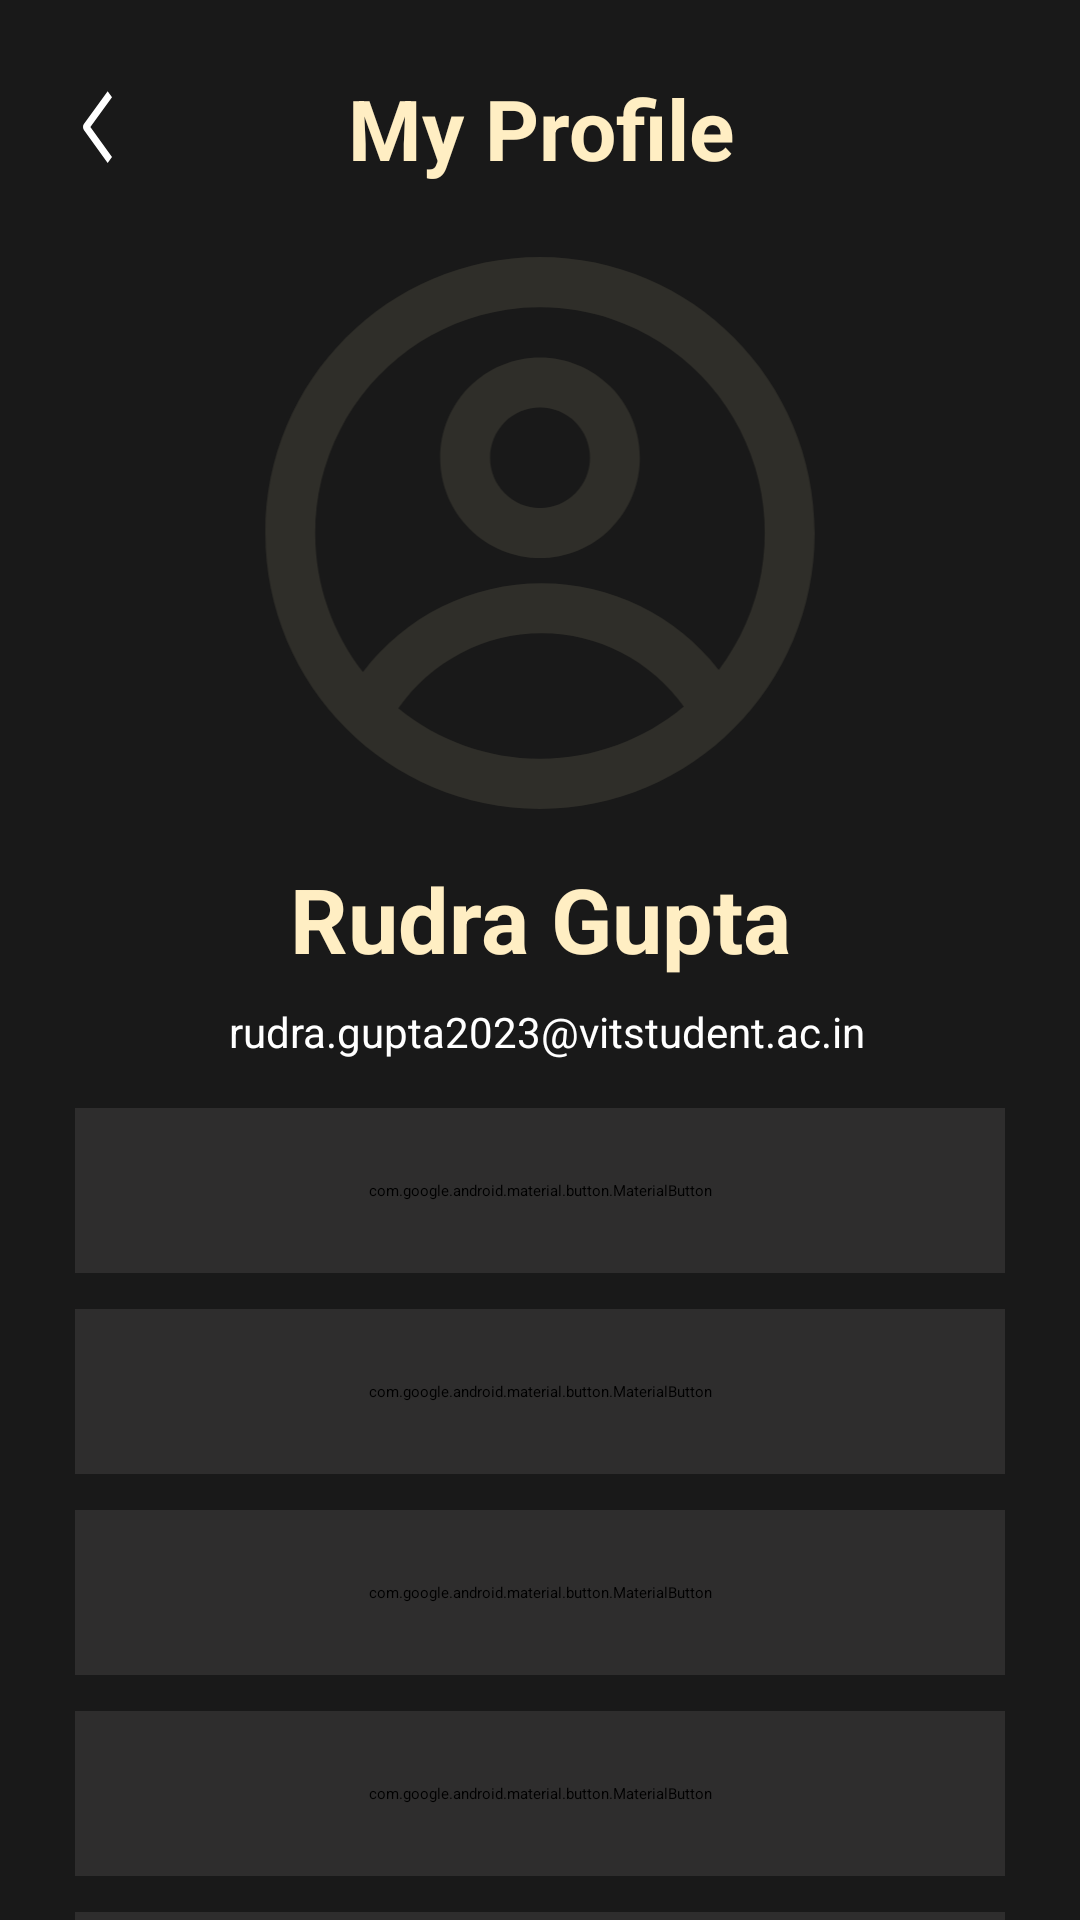

Icon bounding boxes for this 1080px x 1920px phone screenshot, format (x1, y1, x2, y2):
back: (83, 91, 112, 163)
